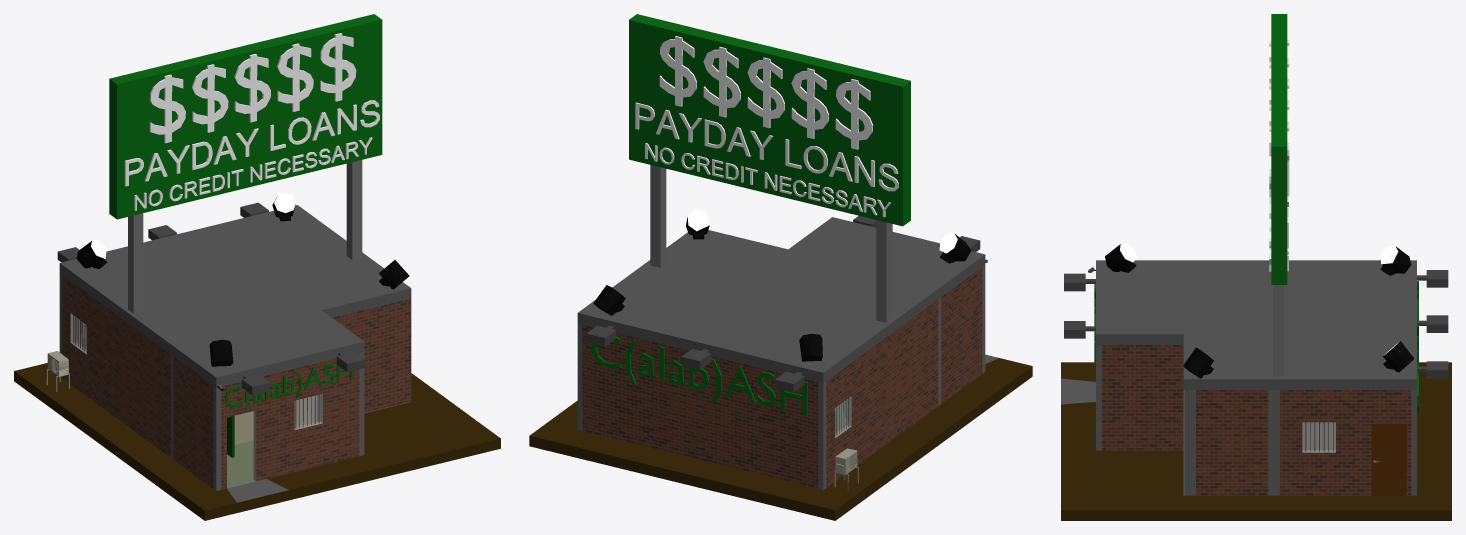
Rendered from Payday Loans.glb.
The picture shows the model from 3 angles, left to right: view 1: azimuth 30°, elevation 25°; view 2: azimuth 150°, elevation 25°; view 3: azimuth 270°, elevation 25°; orthographic projection. The views are drawn at different scales.
Visible parts, largest first — view 1: Ext Walls, Sign.001, Ground, Sign, Sign Suppors, Spotlights, Lights Ext, Windows.001, Condensing Unit; view 2: Ext Walls, Sign.001, Ground, Sign, Sign Suppors, Spotlights, Lights Ext, Condensing Unit; view 3: Ext Walls, Ground, Sign.001, Stationary Door, Spotlights, Lights Ext, Sign, Vault Wall, Sign Suppors, Windows.
Part boxes in pixels (x1,y1,x2,y2): Ext Walls: [59, 205, 411, 490]; Sign.001: [109, 14, 382, 219]; Ground: [14, 363, 500, 520]; Sign: [124, 33, 379, 409]; Sign Suppors: [128, 160, 362, 313]; Spotlights: [76, 192, 409, 366]; Lights Ext: [57, 202, 365, 395]; Windows.001: [294, 394, 322, 429]; Condensing Unit: [46, 351, 69, 392]; Ext Walls: [577, 217, 985, 490]; Sign.001: [629, 14, 910, 226]; Ground: [529, 354, 1032, 520]; Sign: [591, 36, 898, 415]; Sign Suppors: [650, 165, 892, 322]; Spotlights: [593, 210, 971, 361]; Lights Ext: [586, 216, 980, 392]; Condensing Unit: [834, 448, 858, 490]; Ext Walls: [1096, 260, 1416, 495]; Ground: [1061, 362, 1451, 520]; Sign.001: [1271, 14, 1287, 284]; Stationary Door: [1371, 423, 1406, 495]; Spotlights: [1105, 243, 1413, 378]; Lights Ext: [1064, 270, 1448, 378]; Sign: [1094, 40, 1418, 412]; Vault Wall: [1268, 390, 1279, 495]; Sign Suppors: [1273, 285, 1284, 376]; Windows: [1302, 422, 1335, 452].
Size of what is drawn, in the model's own units: 9.14 by 10.56 by 10.21.
34 materials, 1 textured.
